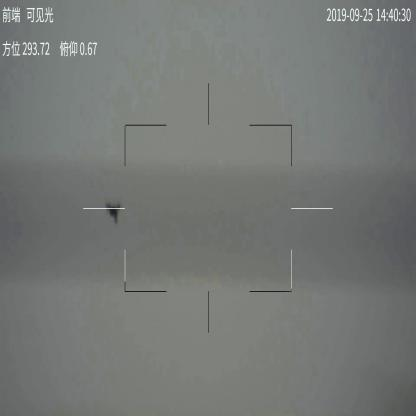uav: (103, 199, 123, 225)
